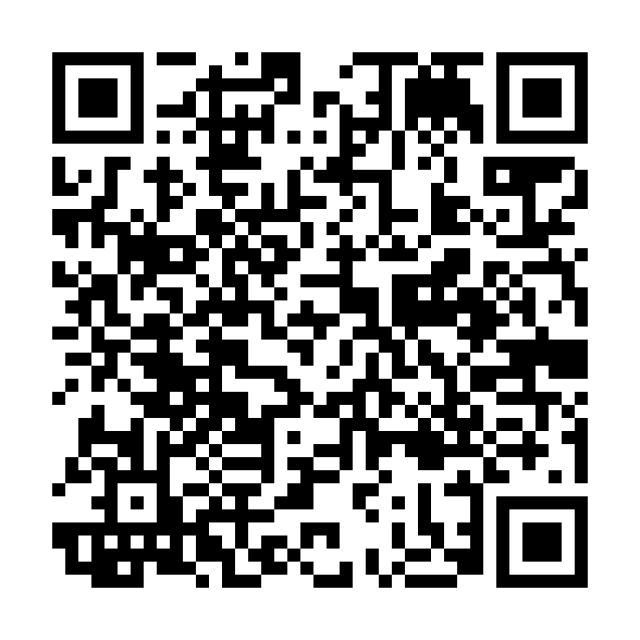qr-code: (39, 35, 601, 599)
